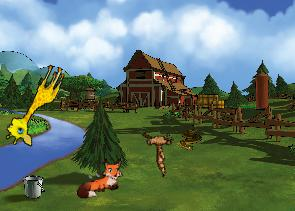eagle: (130, 119, 188, 177)
fox: (70, 154, 129, 201)
giraffe: (1, 57, 68, 151)
